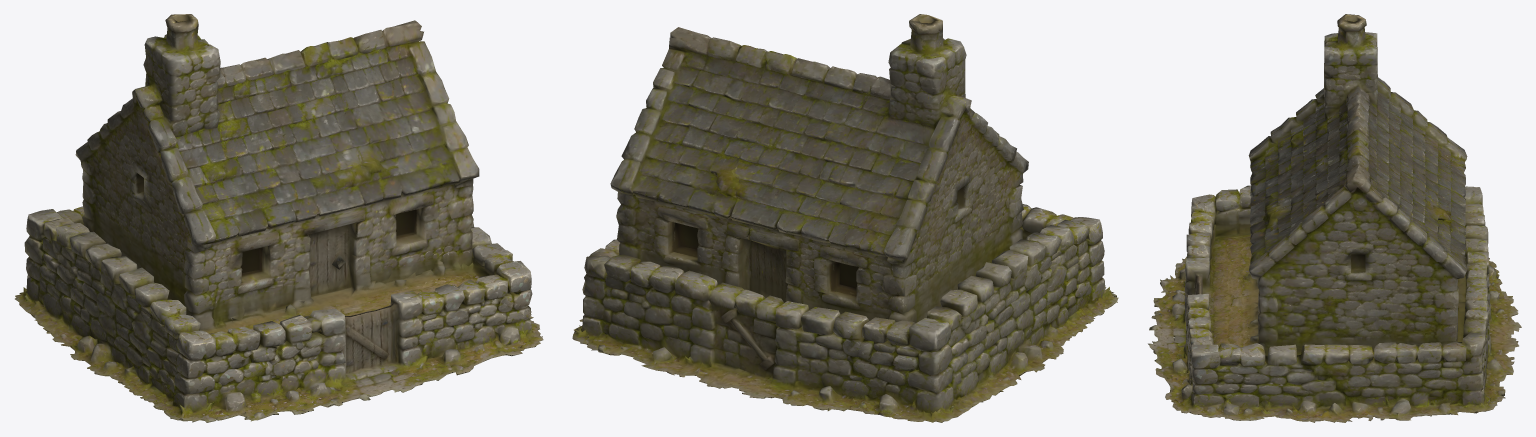
The model's file is yard_cottage_tripo.glb.
3 renders of one model, left to right at view 1: azimuth 30°, elevation 25°; view 2: azimuth 150°, elevation 25°; view 3: azimuth 270°, elevation 25°, orthographic. The views are drawn at different scales.
Visible parts, largest first — view 1: tripo_node_2d646a05-3e7f-40d6-a36b-8ac6d78b5c44; view 2: tripo_node_2d646a05-3e7f-40d6-a36b-8ac6d78b5c44; view 3: tripo_node_2d646a05-3e7f-40d6-a36b-8ac6d78b5c44.
Boxes of the visible parts, x1,y1,x2,y2 form: tripo_node_2d646a05-3e7f-40d6-a36b-8ac6d78b5c44: (15,14,543,422); tripo_node_2d646a05-3e7f-40d6-a36b-8ac6d78b5c44: (572,14,1118,422); tripo_node_2d646a05-3e7f-40d6-a36b-8ac6d78b5c44: (1148,14,1521,422).
Bounding box in the file's own units: 1 × 0.7603 × 0.9153.
1 material, 1 textured.
